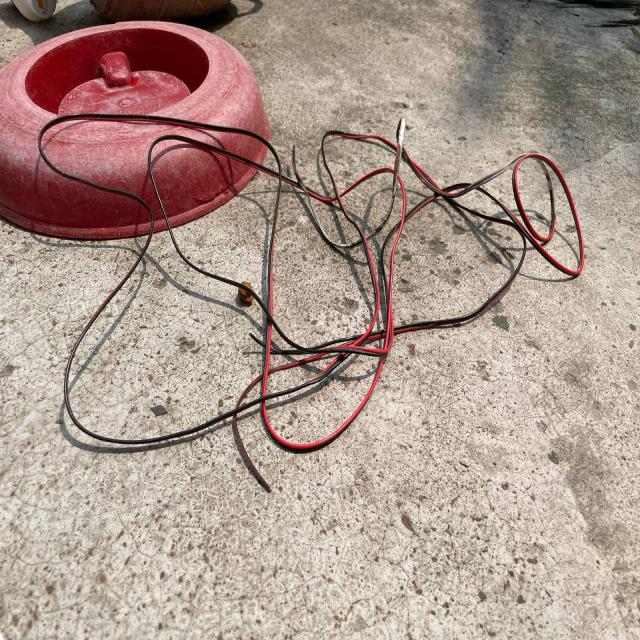Cable: (44, 117, 612, 493)
Plastics: (0, 6, 270, 206)
